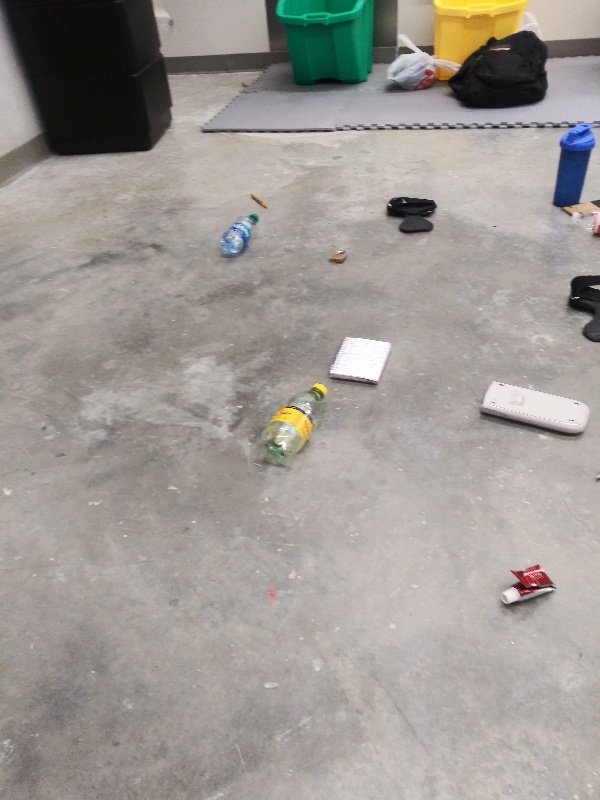bottle: (254, 381, 332, 467), (215, 209, 262, 259), (566, 208, 600, 240)
